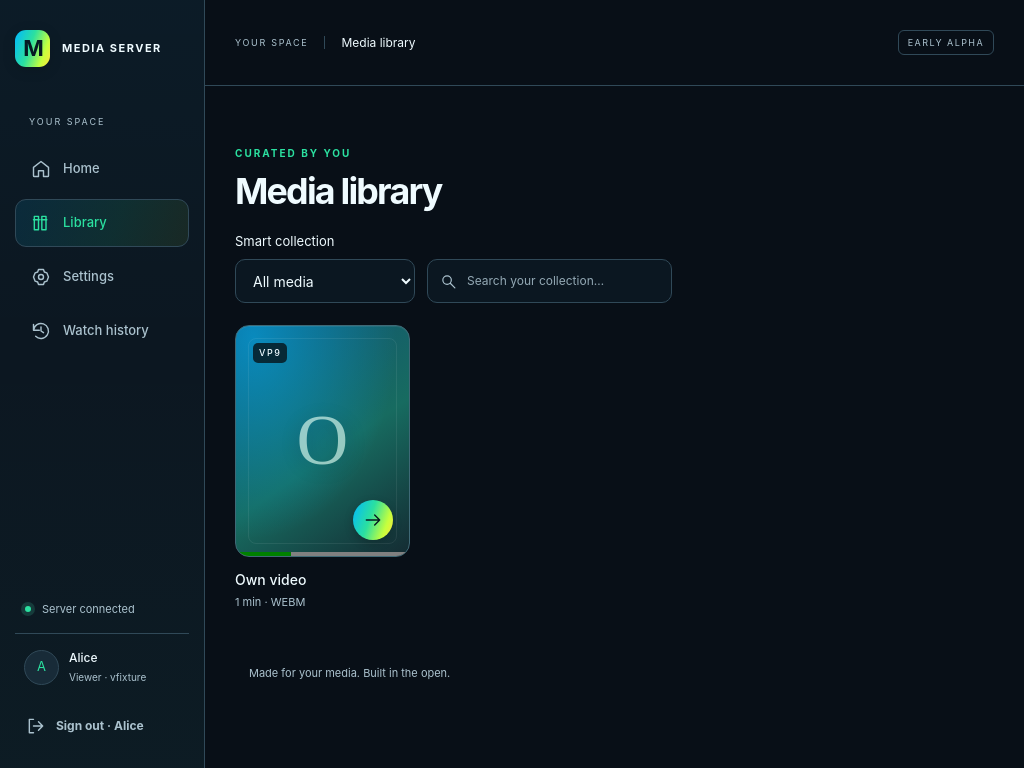
Test: opens honest details without mounting a player, preserves filters and restores the card on back
Type "Own" into the search field named "Search library" at (550, 281), box [427,259,672,303]
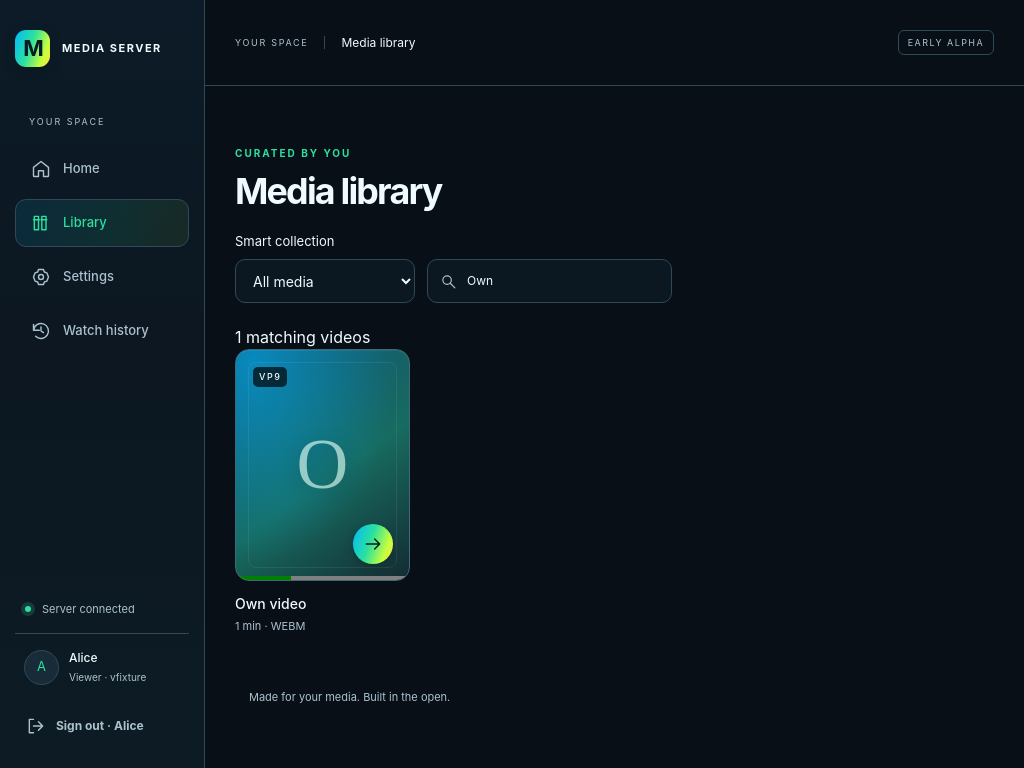
Click the heading "Own video" at (271, 603), box [235,594,306,612]
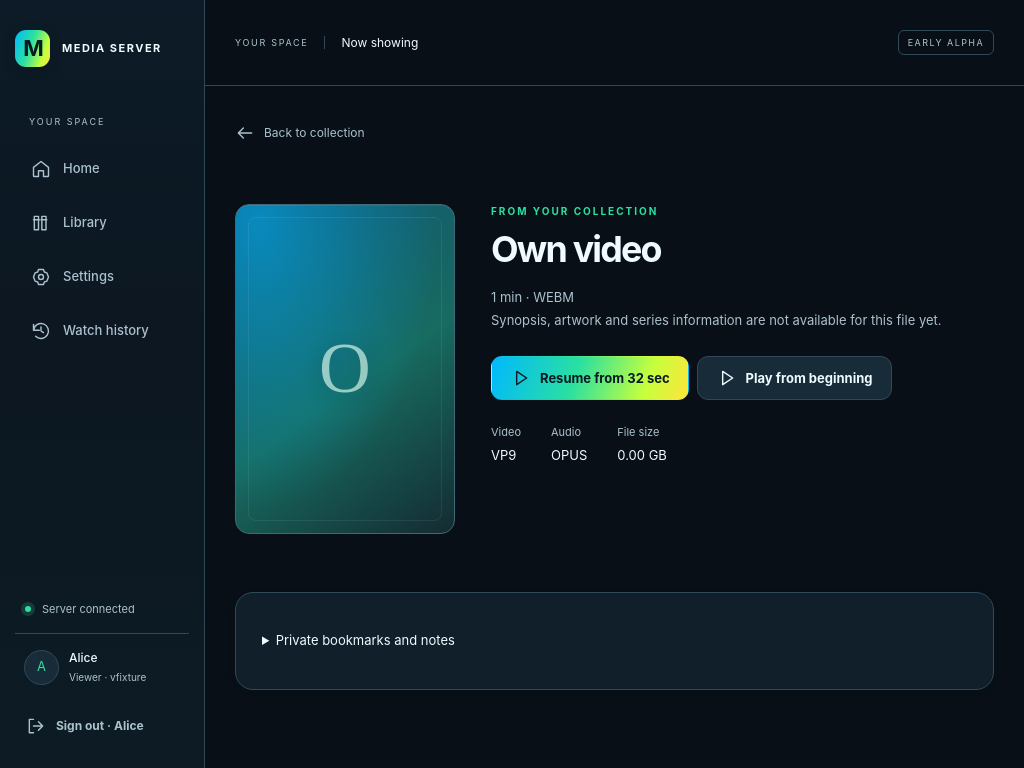
expect the element named "Title information" is shown: met, box [235,204,994,712]
expect the text "Synopsis, artwork and series information are not available" is shown: met, box [491,312,942,328]
expect the button "Resume from 32 sec" is shown: met, box [491,356,689,400]
Click the link "Back to collection" at (300, 133), box [235,123,365,143]
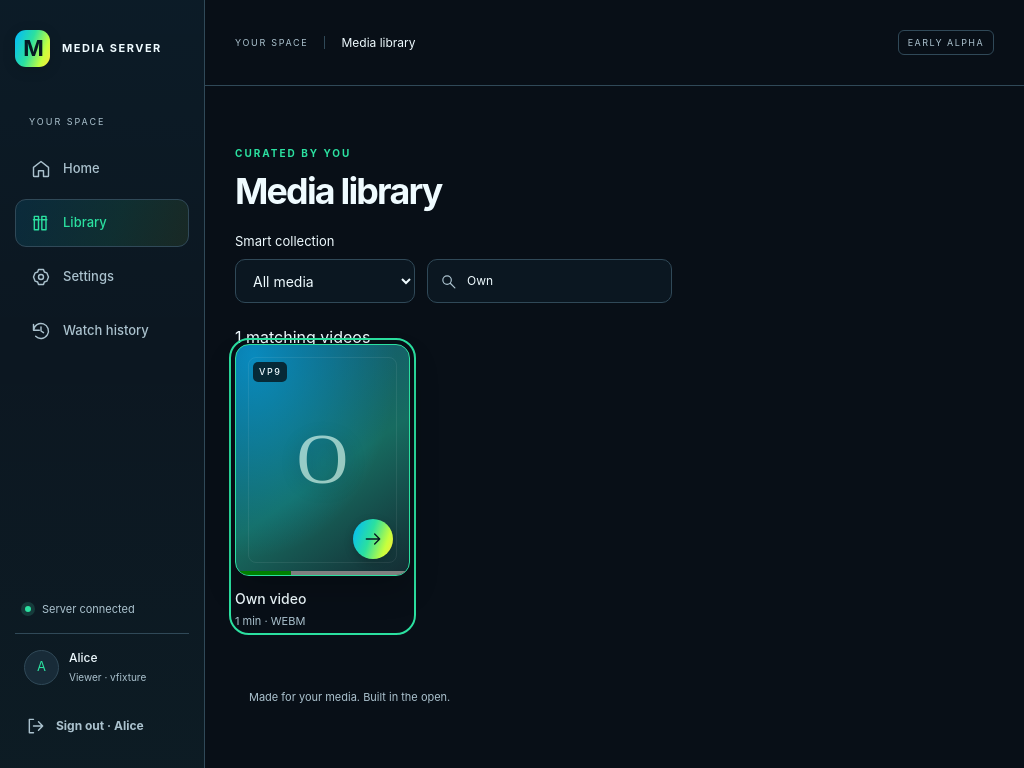
expect the search field named "Search library" holds "Own": met, box [427,259,672,303]
